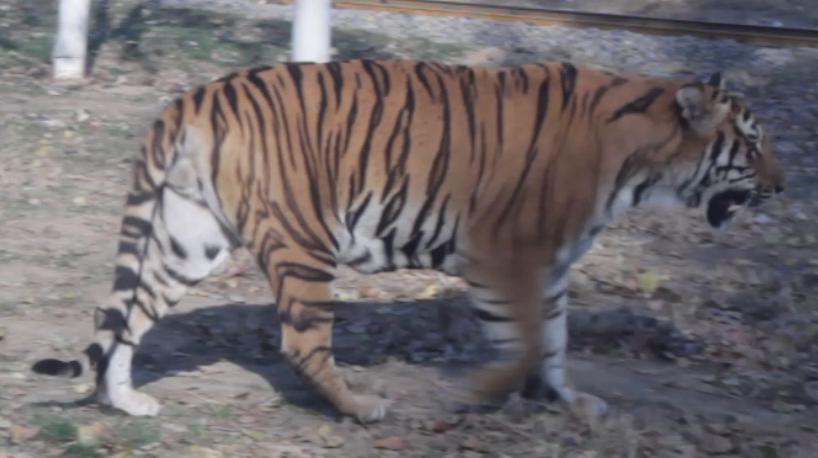tiger: (85, 59, 783, 421)
